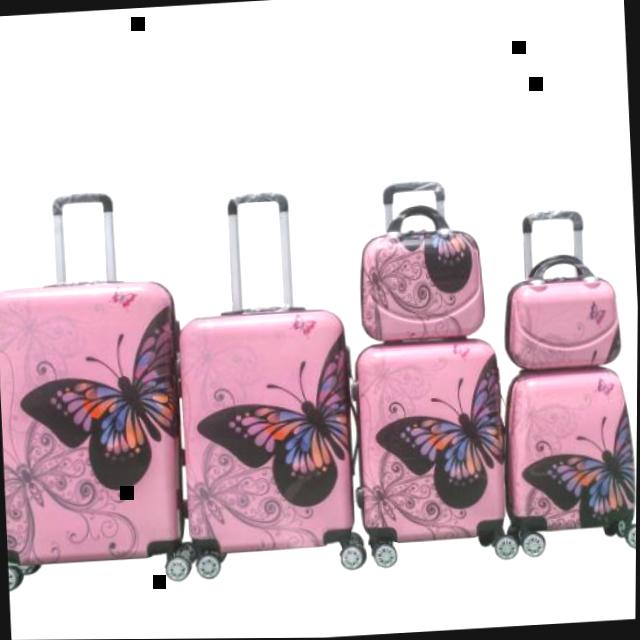luggage: (0, 272, 192, 573), (175, 297, 364, 562), (349, 329, 514, 550), (503, 364, 638, 546)
